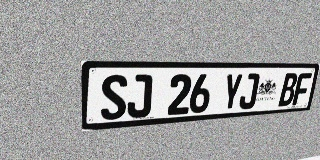2: (168, 74, 192, 115)
6: (189, 74, 212, 114)
B: (278, 73, 299, 106)
F: (292, 73, 312, 105)
J: (127, 74, 153, 118), (238, 73, 260, 110)
S: (101, 75, 127, 121)
Y: (221, 74, 243, 111)
